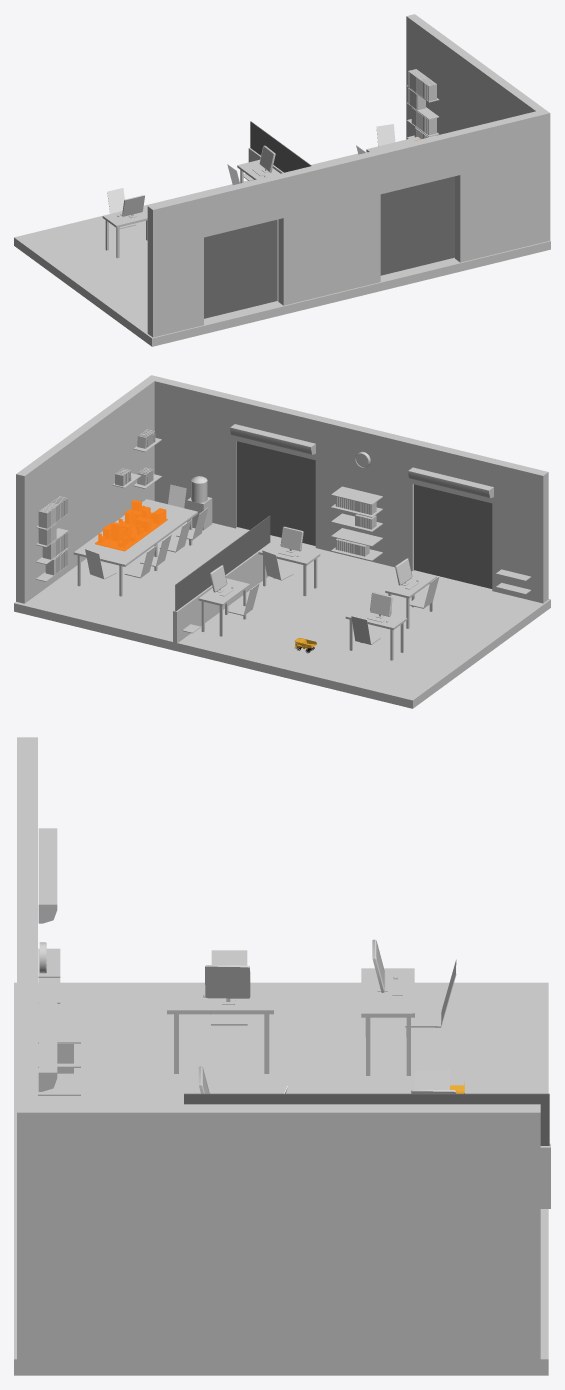
Rendered from ofis.fbx.
3 views of the same model, one above another, from view 1: azimuth 30°, elevation 25°; view 2: azimuth 150°, elevation 25°; view 3: azimuth 270°, elevation 25° (orthographic). The views are drawn at different scales.
Visible parts, largest first — view 1: Box004, Box001, Plane002, Plane001, Box016, Box027; view 2: Box004, Box001, Plane001, Plane002, Box016, Box005, Box015, Box038, Box039, Box022, Box017, Box032 (+9 smaller); view 3: Box004, Box001, Box016, Box032, Box027, Box038, Box039, Box235, Box059.
Boxes of the visible parts, left/top/right/bottom form: Box004: left=147, top=14, right=550, bottom=337; Box001: left=14, top=151, right=550, bottom=346; Plane002: left=380, top=176, right=454, bottom=275; Plane001: left=204, top=219, right=277, bottom=318; Box016: left=250, top=121, right=311, bottom=172; Box027: left=102, top=204, right=150, bottom=227; Box004: left=16, top=375, right=548, bottom=603; Box001: left=14, top=522, right=550, bottom=708; Plane001: left=414, top=484, right=492, bottom=588; Plane002: left=236, top=441, right=315, bottom=545; Box016: left=175, top=515, right=270, bottom=611; Box005: left=73, top=499, right=197, bottom=566; Box015: left=173, top=542, right=271, bottom=643; Box038: left=230, top=424, right=315, bottom=454; Box039: left=408, top=467, right=493, bottom=497; Box022: left=258, top=542, right=320, bottom=565; Box017: left=198, top=578, right=250, bottom=606; Box032: left=385, top=570, right=436, bottom=598; Box004: left=17, top=737, right=540, bottom=1359; Box001: left=14, top=982, right=548, bottom=1375; Box016: left=184, top=1093, right=549, bottom=1145; Box032: left=167, top=987, right=273, bottom=1014; Box027: left=361, top=968, right=414, bottom=1017; Box038: left=38, top=996, right=57, bottom=1091; Box039: left=38, top=828, right=57, bottom=923; Box235: left=205, top=965, right=250, bottom=998; Box059: left=38, top=1004, right=80, bottom=1043.
Bounding box in the file's own units: 10000 × 3256 × 6025.
